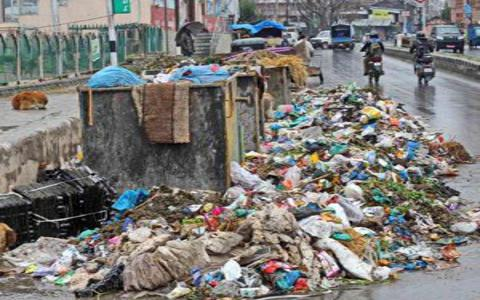overflowing garbage: (84, 76, 246, 270), (253, 75, 335, 211)
